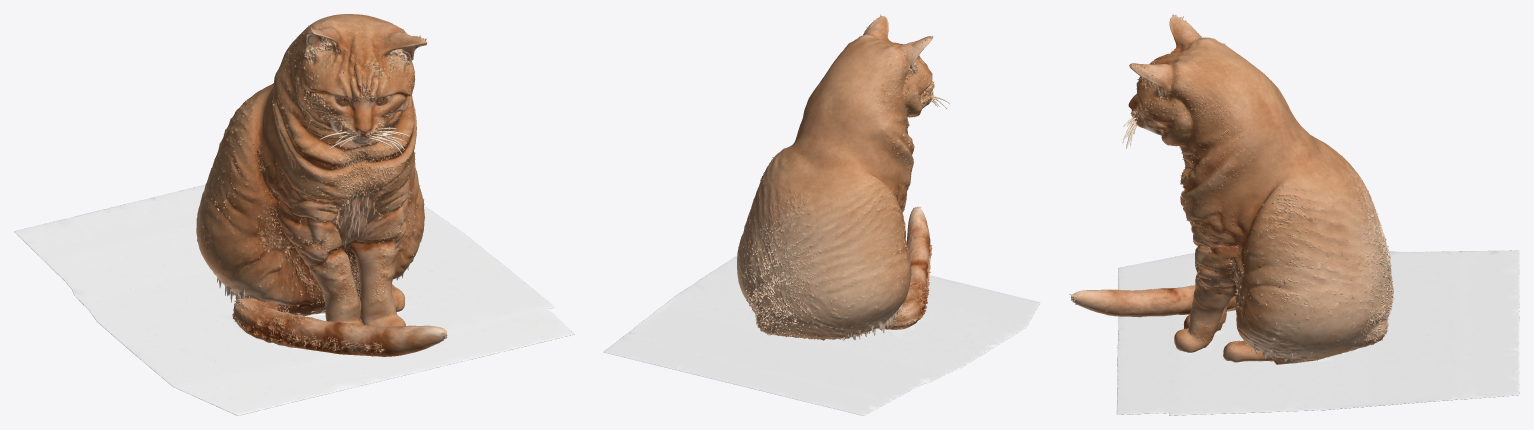
The picture shows the model from 3 angles, left to right: view 1: azimuth 30°, elevation 25°; view 2: azimuth 150°, elevation 25°; view 3: azimuth 270°, elevation 25°; orthographic projection. The views are drawn at different scales.
Parts seen in each view (by area): view 1: mesh_0; view 2: mesh_0; view 3: mesh_0.
Boxes of the visible parts, <box> form: mesh_0: <box>14,14,574,415</box>; mesh_0: <box>603,14,1040,415</box>; mesh_0: <box>1069,14,1519,415</box>.
Bounding box in the file's own units: 0.7732 × 0.6718 × 0.9118.
Materials: 1 (1 with a texture image).
